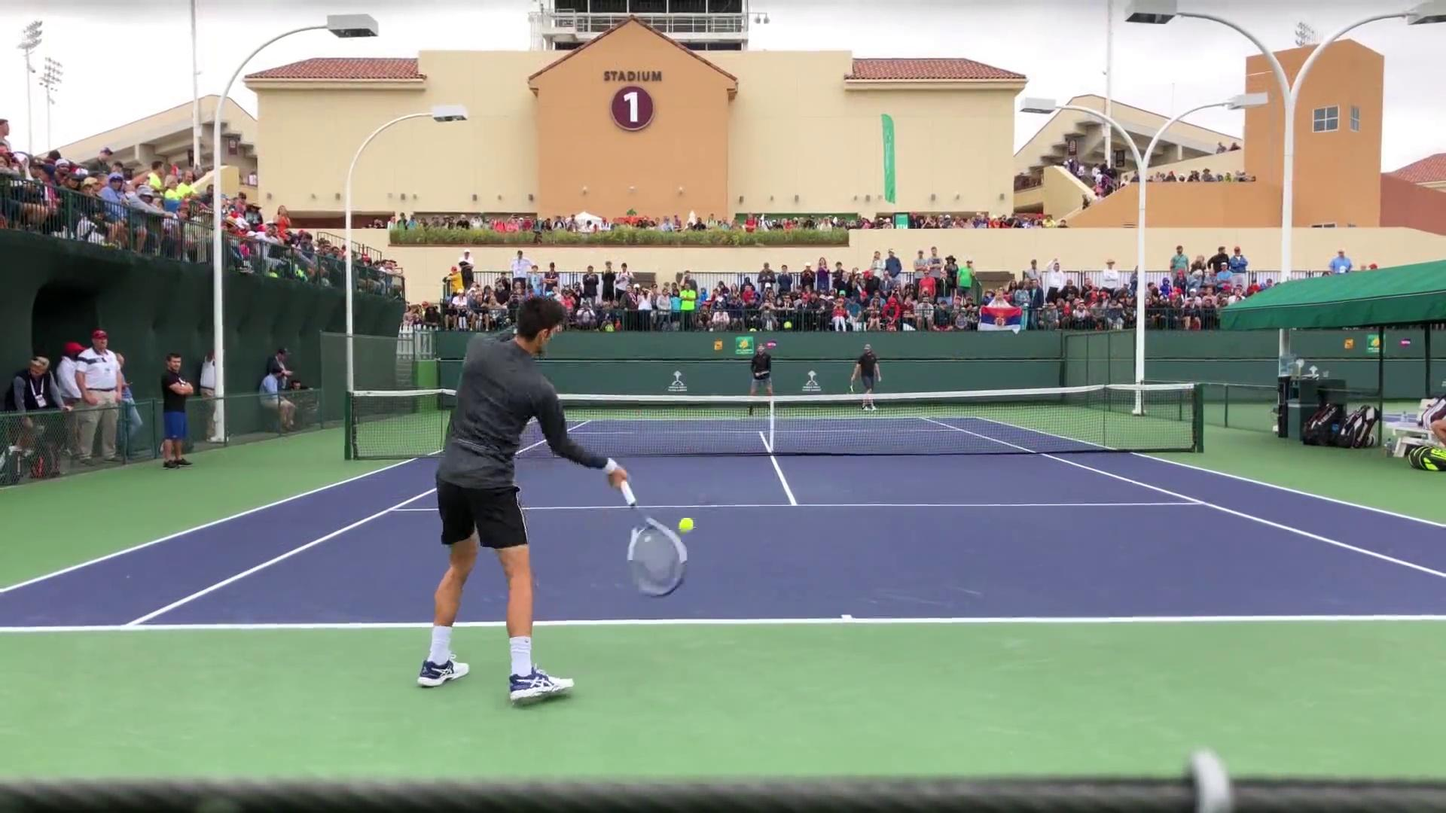ball: (678, 516, 697, 533)
